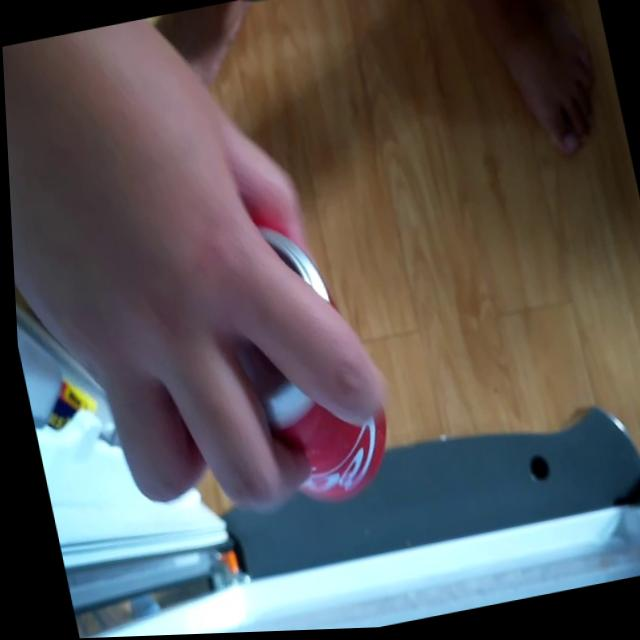coke: (205, 199, 405, 517)
